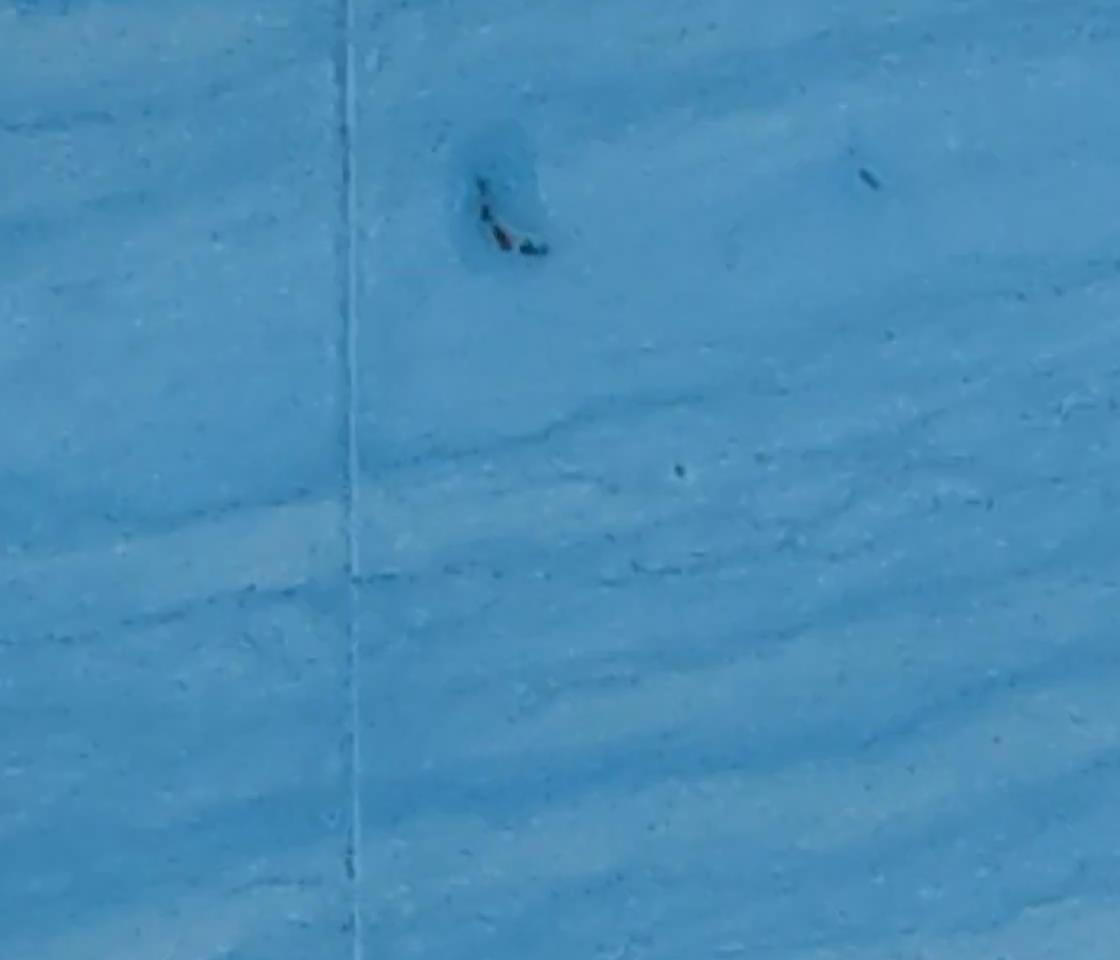scratch: (467, 166, 555, 279)
